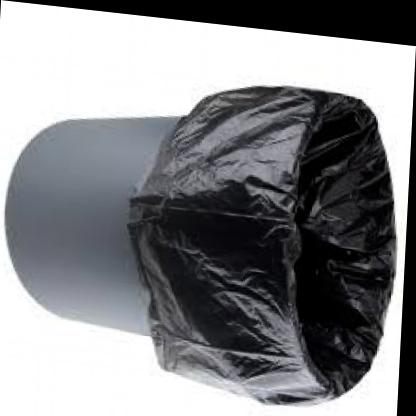Plastic: (118, 54, 406, 416)
